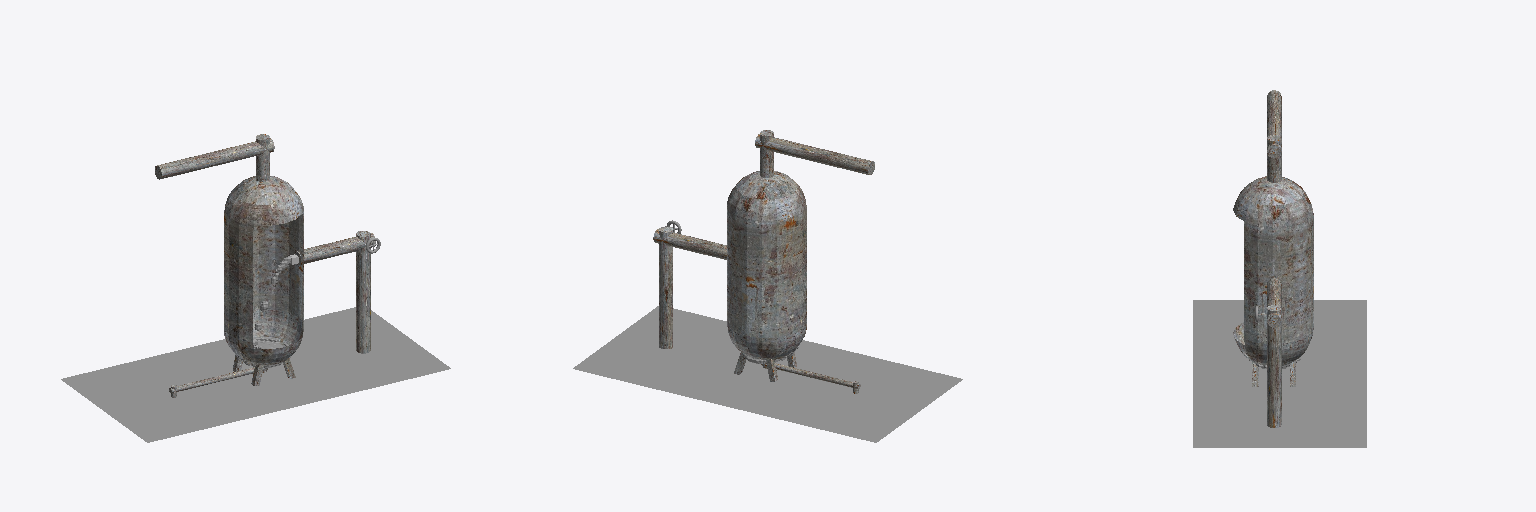
3 views of the same model, side by side, from view 1: azimuth 30°, elevation 25°; view 2: azimuth 150°, elevation 25°; view 3: azimuth 270°, elevation 25° (orthographic).
Parts seen in each view (by area): view 1: Plane, Capsule, Cylinder.001, Cylinder.003, Cylinder, Capsule.001_Capsule.002, Cylinder.002; view 2: Plane, Capsule, Cylinder.003, Cylinder.001, Cylinder, Cylinder.002; view 3: Plane, Capsule, Cylinder.001, Cylinder.003, Cylinder.
Boxes of the visible parts, x1=… form: Plane: x1=61, y1=307, x2=450, y2=442; Capsule: x1=224, y1=176, x2=303, y2=365; Cylinder.001: x1=356, y1=231, x2=370, y2=353; Cylinder.003: x1=155, y1=138, x2=274, y2=179; Cylinder: x1=295, y1=233, x2=375, y2=264; Capsule.001_Capsule.002: x1=235, y1=256, x2=291, y2=368; Cylinder.002: x1=256, y1=134, x2=269, y2=181; Plane: x1=573, y1=306, x2=962, y2=442; Capsule: x1=727, y1=171, x2=806, y2=359; Cylinder.003: x1=755, y1=134, x2=874, y2=174; Cylinder.001: x1=659, y1=226, x2=672, y2=348; Cylinder: x1=653, y1=229, x2=726, y2=259; Cylinder.002: x1=760, y1=130, x2=773, y2=177; Plane: x1=1193, y1=300, x2=1366, y2=447; Capsule: x1=1233, y1=176, x2=1313, y2=365; Cylinder.001: x1=1267, y1=305, x2=1281, y2=427; Cylinder.003: x1=1267, y1=90, x2=1281, y2=157; Cylinder: x1=1267, y1=278, x2=1281, y2=327.
Size of the model in its own units: 8.63 by 6.5 by 4.29.
Materials: 18 (1 with a texture image).